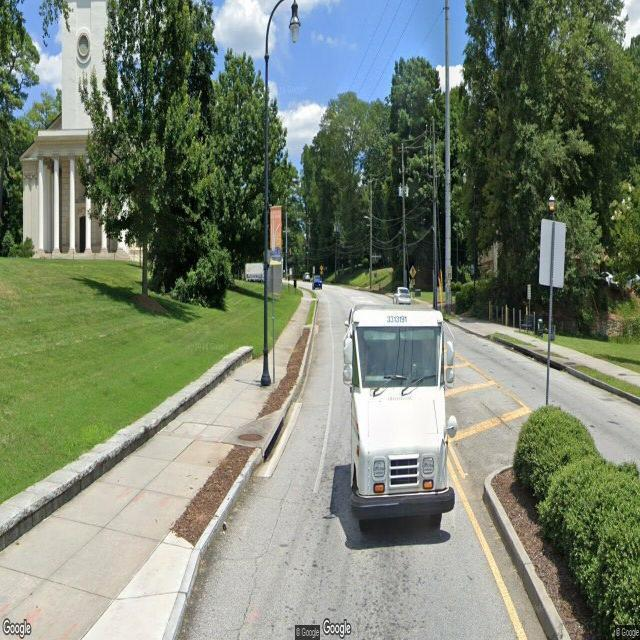seating: (518, 314, 534, 334)
trash_can: (538, 318, 542, 336)
